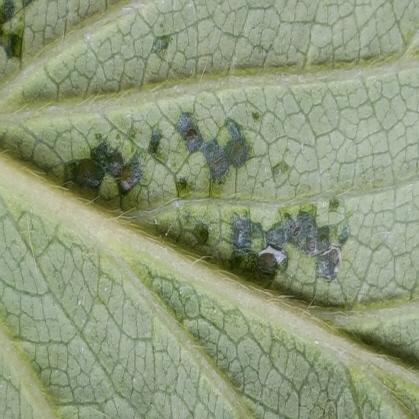Angular Leafspot: (0, 0, 367, 308)
